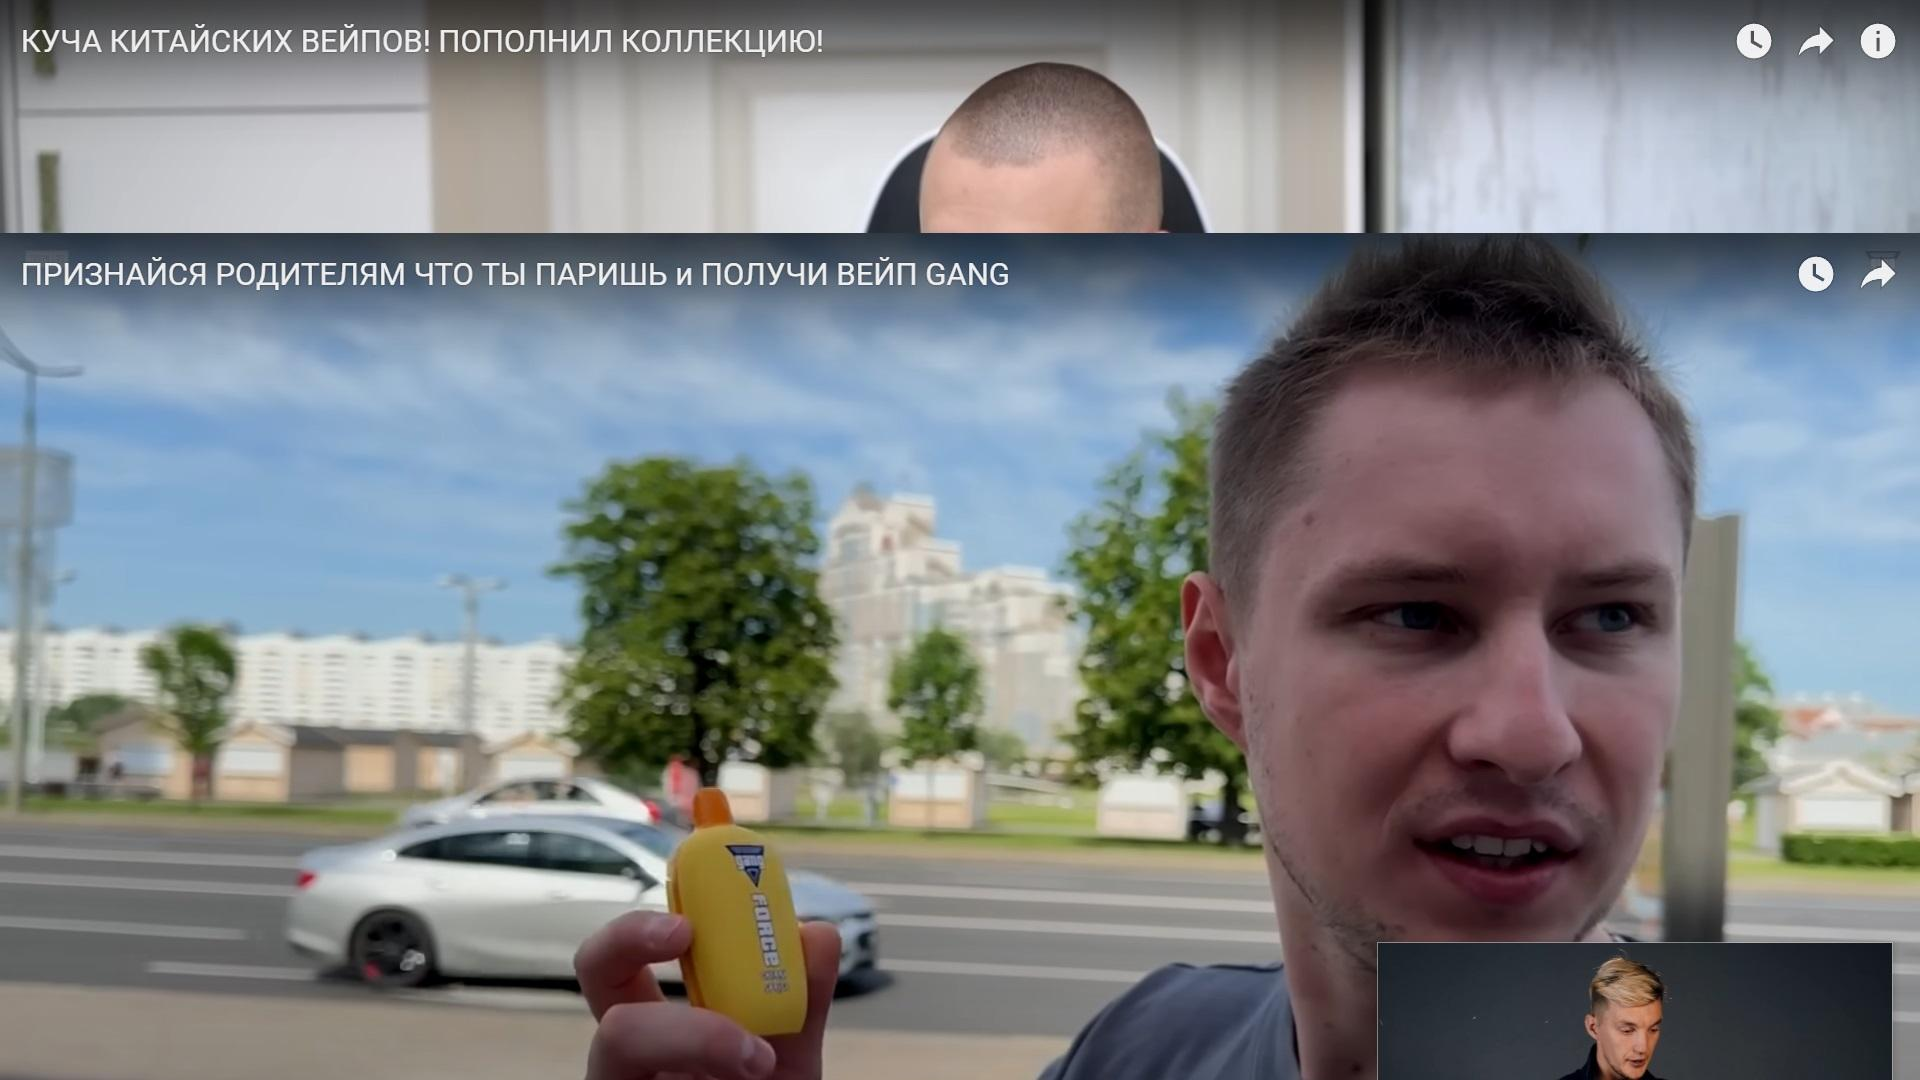Vape: (667, 787, 808, 1039)
